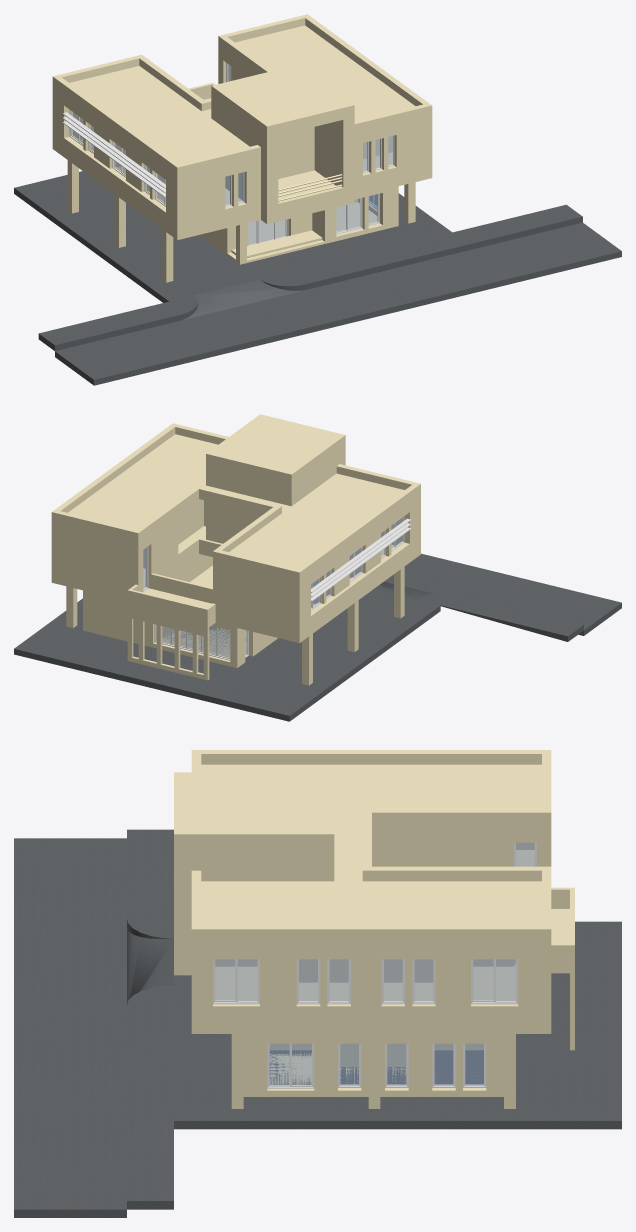
3 views of the same model, one above another, from view 1: azimuth 30°, elevation 25°; view 2: azimuth 150°, elevation 25°; view 3: azimuth 270°, elevation 25° (orthographic). The views are drawn at different scales.
Visible parts, largest first — view 1: 30098, 87825, 30084, 31462, 89579, 31720, 29863, Component#1 (×3), Component#2 (×3), 191290, 89057, Component#5; view 2: 30098, 30084, 31462, 87825, 29863, 31720, 89579, Component#1 (×4), Component#2 (×3), 88710; view 3: 30098, 87825, 30084, 31462, 89579, 29863, Component#6 (×8), 31720, Component#5 (×3), Component#1 (×3).
Part boxes in pixels (x1,y1,x2,y2): 30098: (52,14,432,239); 87825: (55,222,621,385); 30084: (14,171,451,302); 31462: (69,25,415,163); 89579: (38,204,582,351); 31720: (219,67,348,135); 29863: (199,160,398,254); Component#1 (×3): (67,160,173,282); Component#2 (×3): (62,112,165,197); 191290: (227,230,324,262); 89057: (248,219,288,245); Component#5: (336,198,362,234); 30098: (51,414,420,680); 30084: (14,589,440,721); 31462: (68,434,404,568); 87825: (384,553,621,635); 29863: (83,554,277,667); 31720: (213,415,339,471); 89579: (374,581,583,641); Component#1 (×4): (66,566,404,685); Component#2 (×3): (311,518,411,601); 88710: (154,624,230,660); 30098: (174,750,574,1050); 87825: (14,838,126,1217); 30084: (174,921,621,1129); 31462: (201,764,541,925); 89579: (127,829,173,1209); 29863: (231,965,515,1096); Component#6 (×8): (296,959,486,1087); 31720: (174,776,329,830); Component#5 (×3): (213,959,518,1088); Component#1 (×3): (231,1034,515,1108).
Size of the model in its own units: 37.28 by 10.99 by 25.79.
811 materials, 64 textured.
